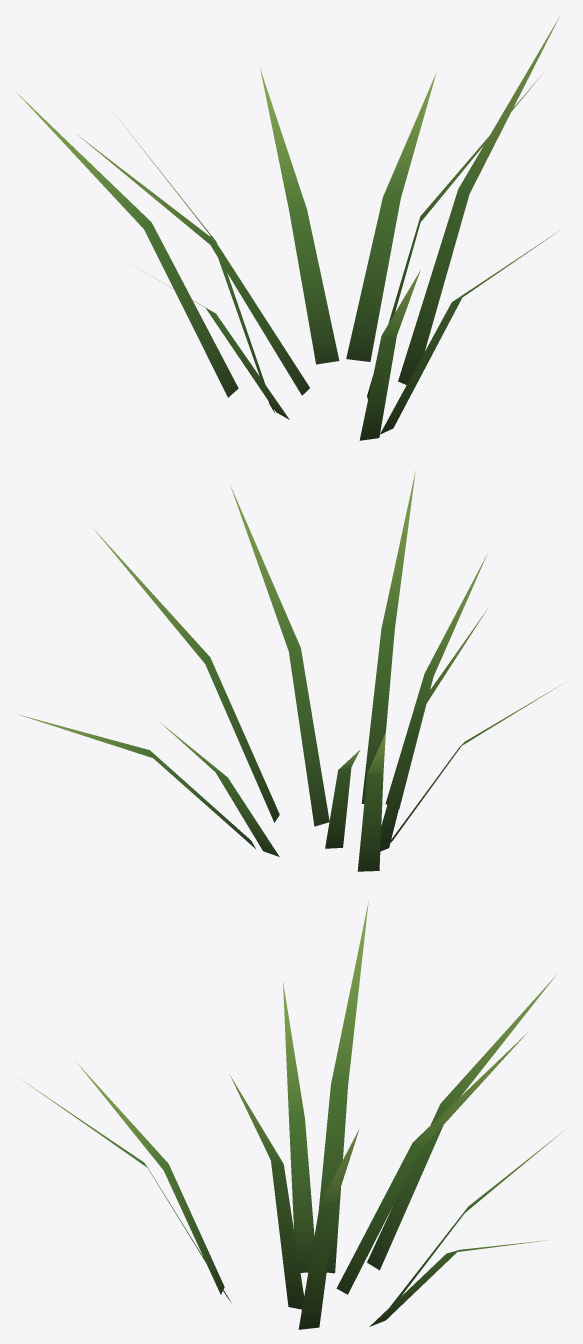
The model's file is grass_short_soft_01.glb.
3 renders of one model, top to bottom at view 1: azimuth 30°, elevation 25°; view 2: azimuth 150°, elevation 25°; view 3: azimuth 270°, elevation 25°, orthographic. The views are drawn at different scales.
Visible parts, largest first — view 1: grass_short_soft_01_mesh; view 2: grass_short_soft_01_mesh; view 3: grass_short_soft_01_mesh.
Part boxes in pixels (x1,y1,x2,y2): grass_short_soft_01_mesh: [16, 15, 560, 440]; grass_short_soft_01_mesh: [18, 471, 561, 871]; grass_short_soft_01_mesh: [24, 901, 566, 1329].
Size of the model in its own units: 0.284 by 0.1805 by 0.2969.
